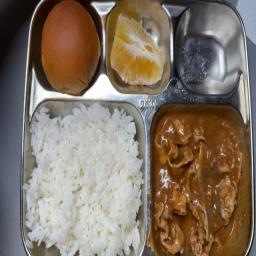100_beef: (151, 109, 243, 254)
100_bread: (37, 4, 102, 93)
100_orange: (108, 9, 169, 90)
100_rice: (25, 103, 143, 254)
empty: (179, 14, 235, 94)
